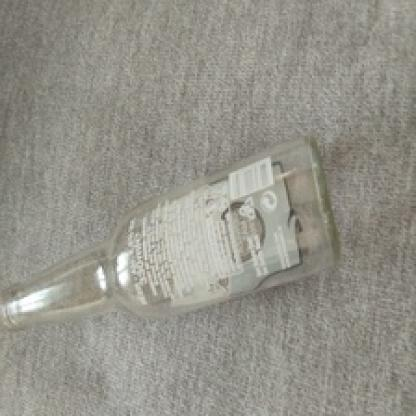Can: (3, 146, 360, 328)
